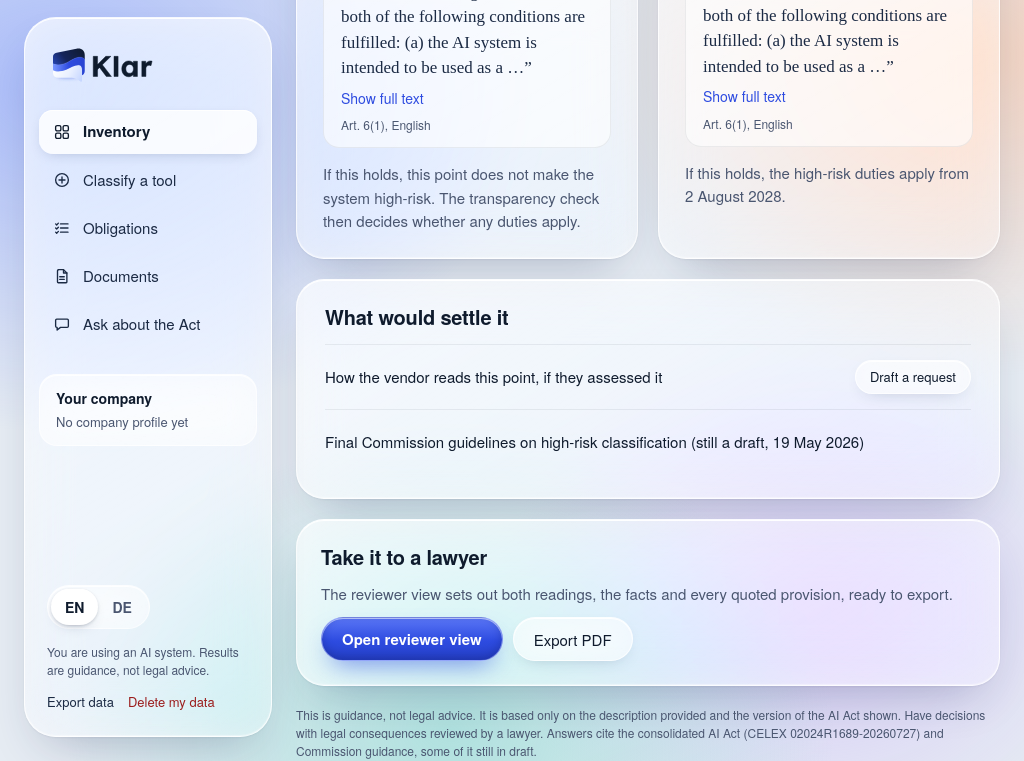
A legally ambiguous result (en) › says when the request couldn’t be drafted
(page scrolled)
What coordinates should you click on to do the following:
click the button "Draft a request"
I would click on:
 (913, 377)
Its box is [855,360,971,394].
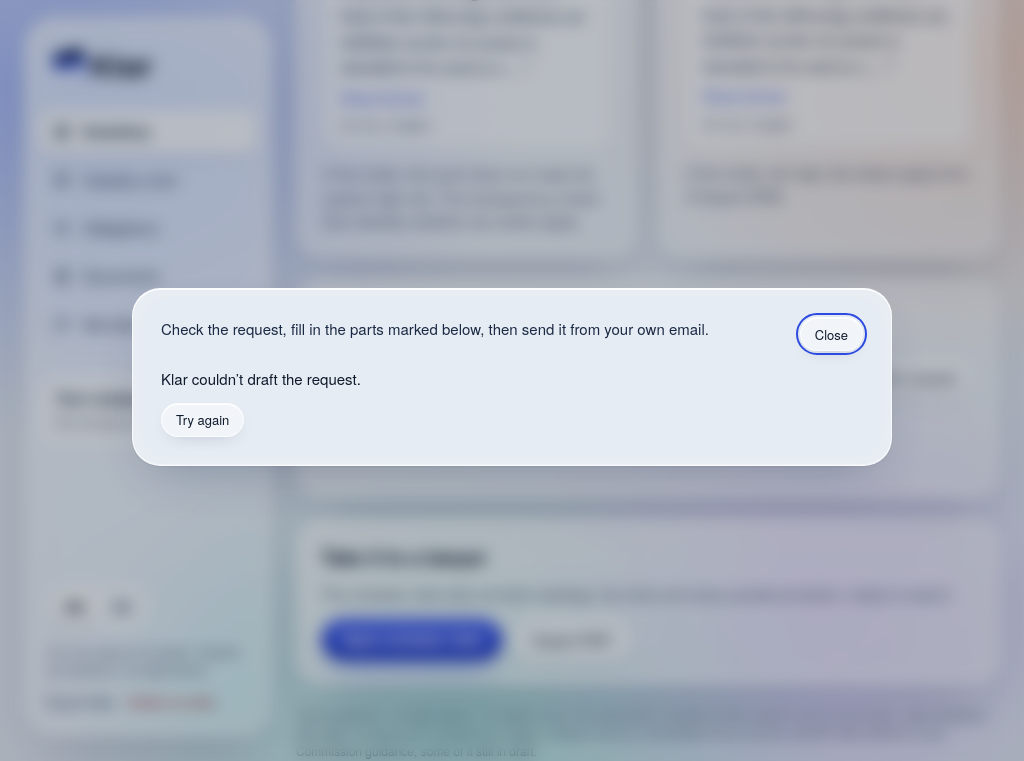
Expected: the text "Klar couldn’t draft the request." is shown, [161,367,361,391]
